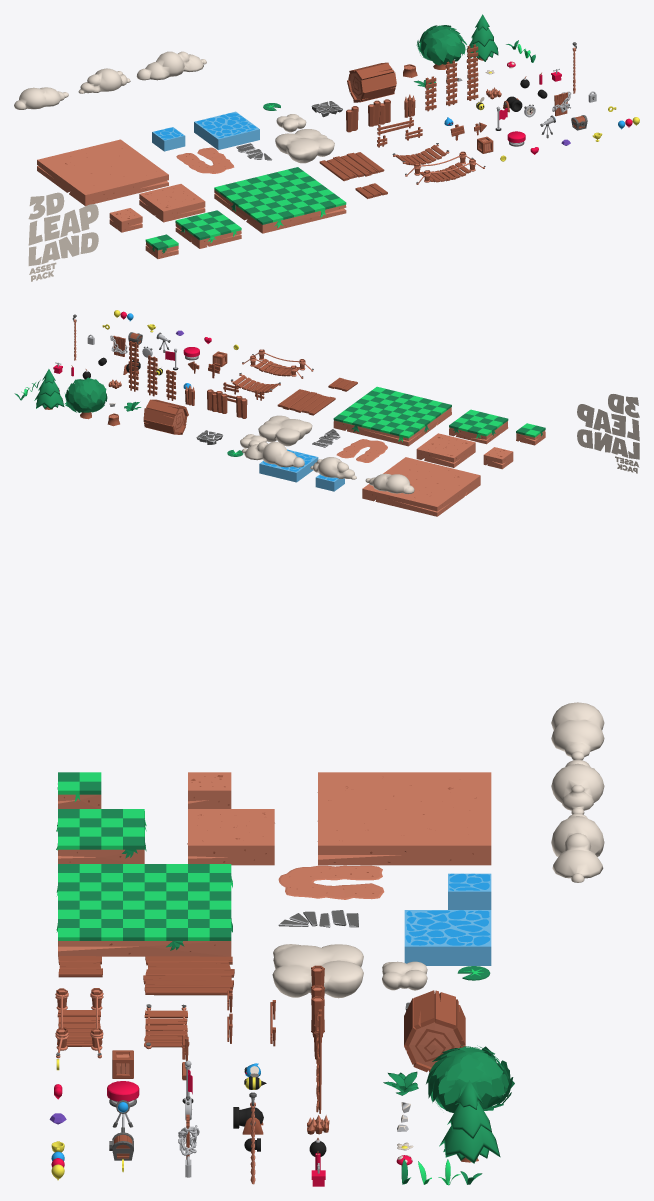
The model's file is level.fbx.
3 renders of one model, top to bottom at view 1: azimuth 30°, elevation 25°; view 2: azimuth 150°, elevation 25°; view 3: azimuth 270°, elevation 25°, orthographic. The views are drawn at different scales.
Visible parts, largest first — view 1: GroundGrass8, GroundDirt8, Logo, GroundDirt4, GroundGrass4, Water4, Tree1, RotatingLog, Cloud4, Cloud3, GroundWood4, Bridge1 (+11 smaller); view 2: GroundGrass8, GroundDirt8, Logo, GroundDirt4, GroundGrass4, Tree1, RotatingLog, Cloud4, Cloud3, GroundWood4, Water4, Bridge1 (+10 smaller); view 3: GroundDirt8, GroundGrass8, GroundDirt4, Water4, GroundGrass4, Tree1, Cloud4, RotatingLog, GroundWood4, Cloud3, Tree2, Cloud1 (+8 smaller).
Part boxes in pixels (x1,y1,x2,y2): GroundGrass8: (214, 167, 346, 233); GroundDirt8: (37, 139, 168, 205); Logo: (28, 192, 98, 281); GroundDirt4: (139, 184, 205, 222); GroundGrass4: (175, 210, 241, 248); Water4: (194, 111, 259, 149); Tree1: (416, 25, 466, 69); RotatingLog: (347, 62, 396, 102); Cloud4: (275, 129, 334, 163); Cloud3: (136, 51, 206, 80); GroundWood4: (319, 152, 384, 181); Bridge1: (405, 151, 485, 184); GroundGrass8: (333, 386, 451, 446); GroundDirt8: (362, 457, 480, 516); Logo: (577, 394, 639, 473); GroundDirt4: (416, 433, 475, 467); GroundGrass4: (449, 409, 508, 444); Tree1: (64, 377, 107, 419); RotatingLog: (143, 399, 188, 434); Cloud4: (258, 415, 312, 446); Cloud3: (242, 441, 304, 467); GroundWood4: (277, 389, 335, 415); Water4: (259, 449, 318, 482); Bridge1: (242, 349, 313, 378); GroundDirt8: (317, 772, 491, 865); GroundGrass8: (56, 864, 232, 956); GroundDirt4: (187, 809, 274, 865); Water4: (404, 910, 491, 965); GroundGrass4: (56, 809, 146, 863); Tree1: (426, 1045, 514, 1112); Cloud4: (272, 944, 363, 998); RotatingLog: (404, 990, 465, 1072); GroundWood4: (143, 956, 234, 995); Cloud3: (551, 813, 604, 882); Tree2: (439, 1080, 500, 1163); Cloud1: (551, 702, 604, 760).
Bounding box in the file's own units: 5722 × 791 × 2563.
Materials: 2 (2 with a texture image).
